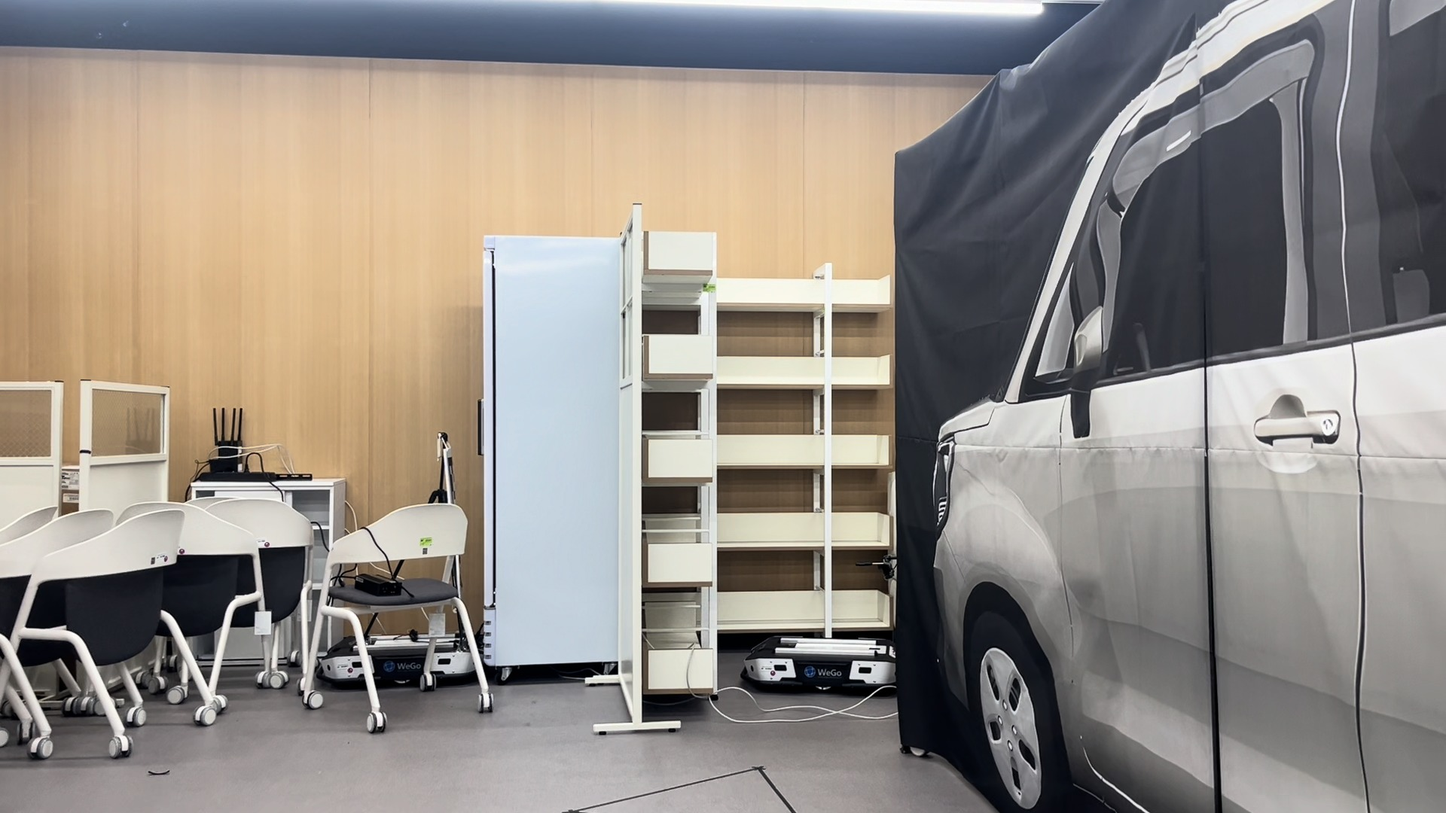door_handle: (1254, 395, 1341, 444)
side_mirror: (1070, 306, 1103, 437)
